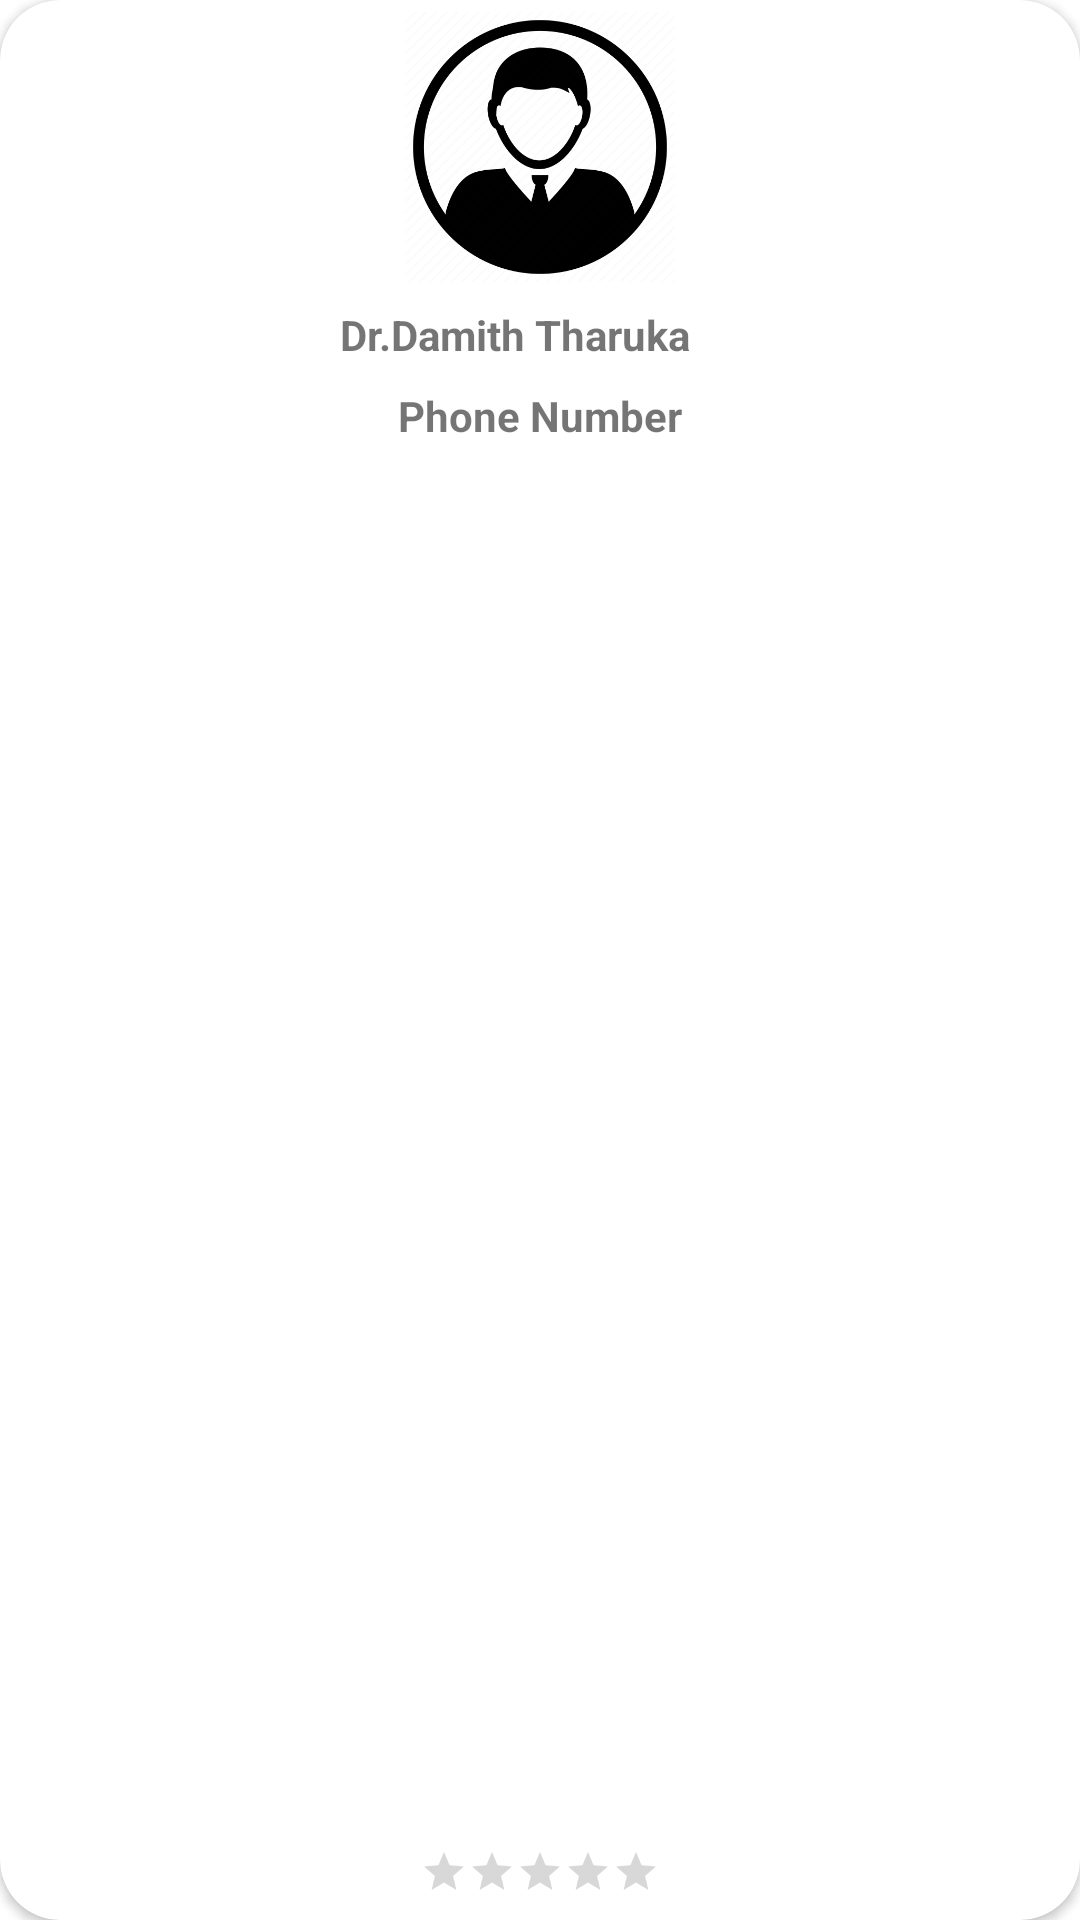

Icons on this 1080 x 1920 Android screen, each with its box as (x1, y1, x2, y2):
profile: (413, 20, 667, 274)
